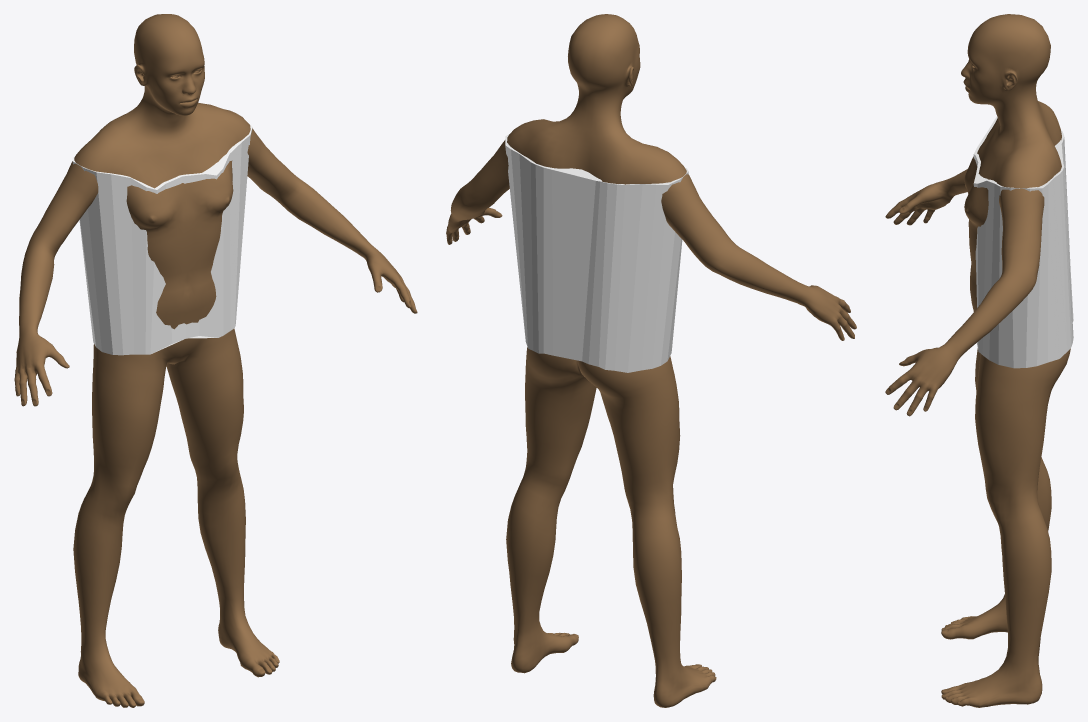
3 views of the same model, side by side, from view 1: azimuth 30°, elevation 25°; view 2: azimuth 150°, elevation 25°; view 3: azimuth 270°, elevation 25° (orthographic).
Visible parts, largest first — view 1: Human, Clothing_Shirt; view 2: Human, Clothing_Shirt; view 3: Human, Clothing_Shirt.
Part boxes in pixels (box(x1,y1,x2,y2)): Human: box(14, 14, 417, 707); Clothing_Shirt: box(72, 120, 252, 355); Human: box(446, 14, 856, 707); Clothing_Shirt: box(505, 134, 688, 372); Human: box(885, 14, 1070, 707); Clothing_Shirt: box(973, 116, 1073, 368).
Bounding box in the file's own units: 1.01 × 1.59 × 0.4171.
